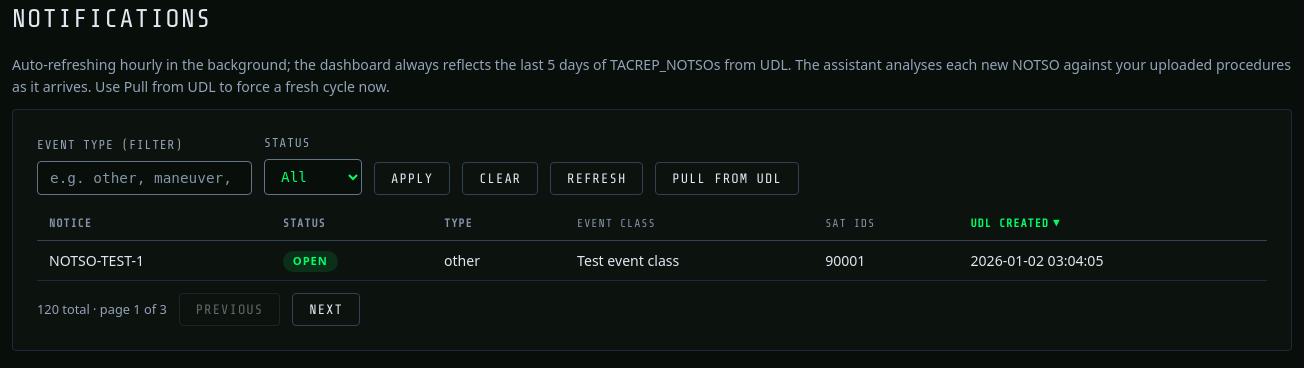
Test: the notifications page › pages through the results fifty at a time
Later steps or results of the test are not shown.
Expected: the text "120 total · page 1 of 3" is shown, [37,300,167,319]
Expected: the button "Previous" is disabled, [179,293,280,326]
Click the button "Next".
click(326, 309)  # box [292,293,360,326]
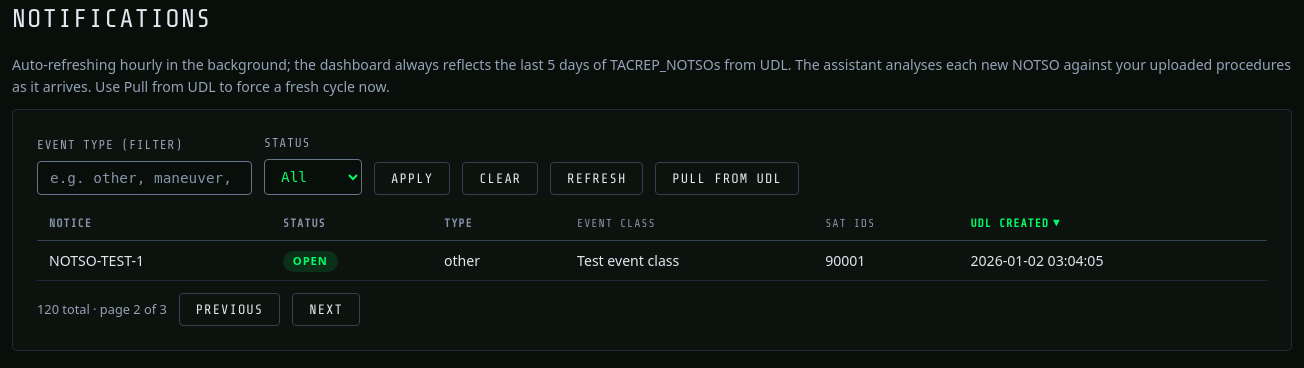
Expected: the text "120 total · page 2 of 3" is shown, [37,300,167,319]
